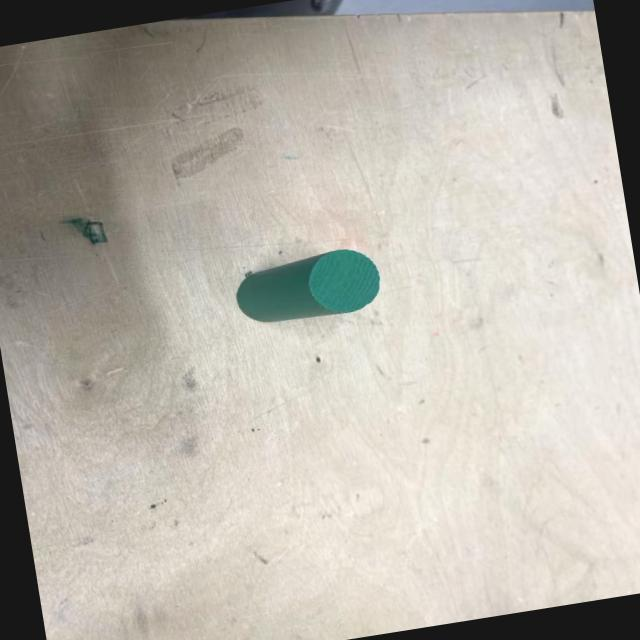green_cylinder: (232, 244, 384, 330)
